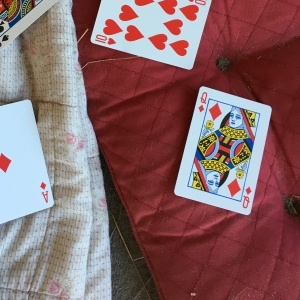card: (174, 85, 273, 215)
